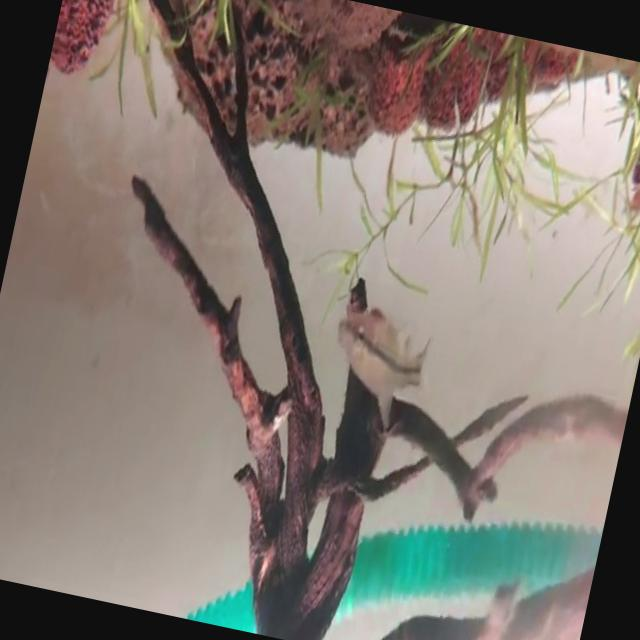Cakil Baligi: (312, 284, 442, 440)
